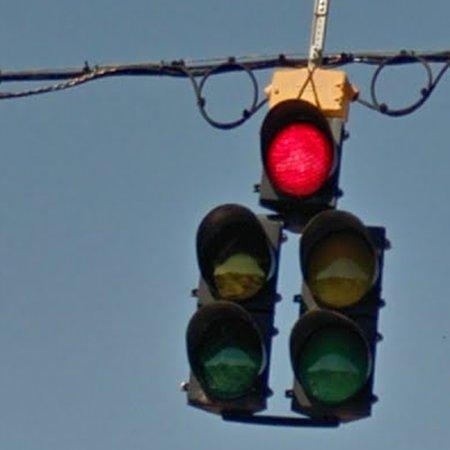traffic lights: (285, 211, 392, 423), (184, 203, 284, 413)
